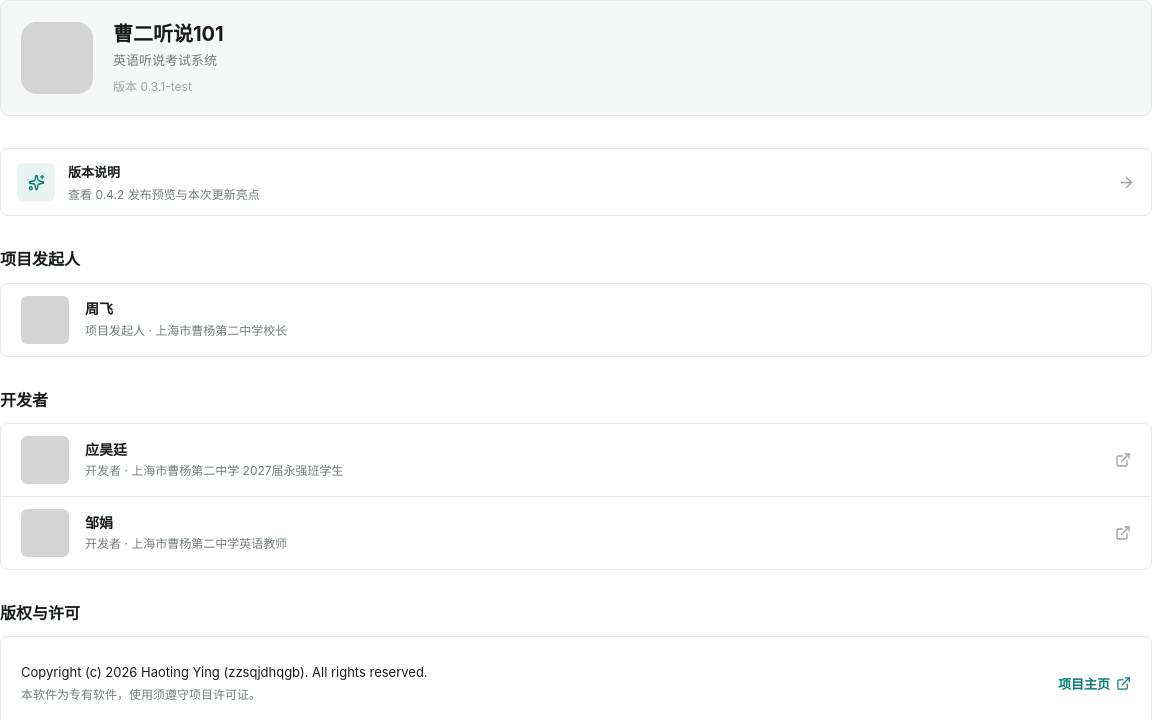
it: AboutSettingsPage › shows product, team and runtime version information
Check: the heading "曹二听说101" is shown, box x1=113 y1=21 x2=224 y2=48
Check: the text "版本 0.3.1-test" is shown, box x1=113 y1=78 x2=192 y2=95
What coordinates should you click on to do the following:
click the button "版本说明 查看 0.4.2 发布预览与本次更新亮点"
I would click on:
 (36, 182)
Its box is x1=0 y1=148 x2=1151 y2=216.
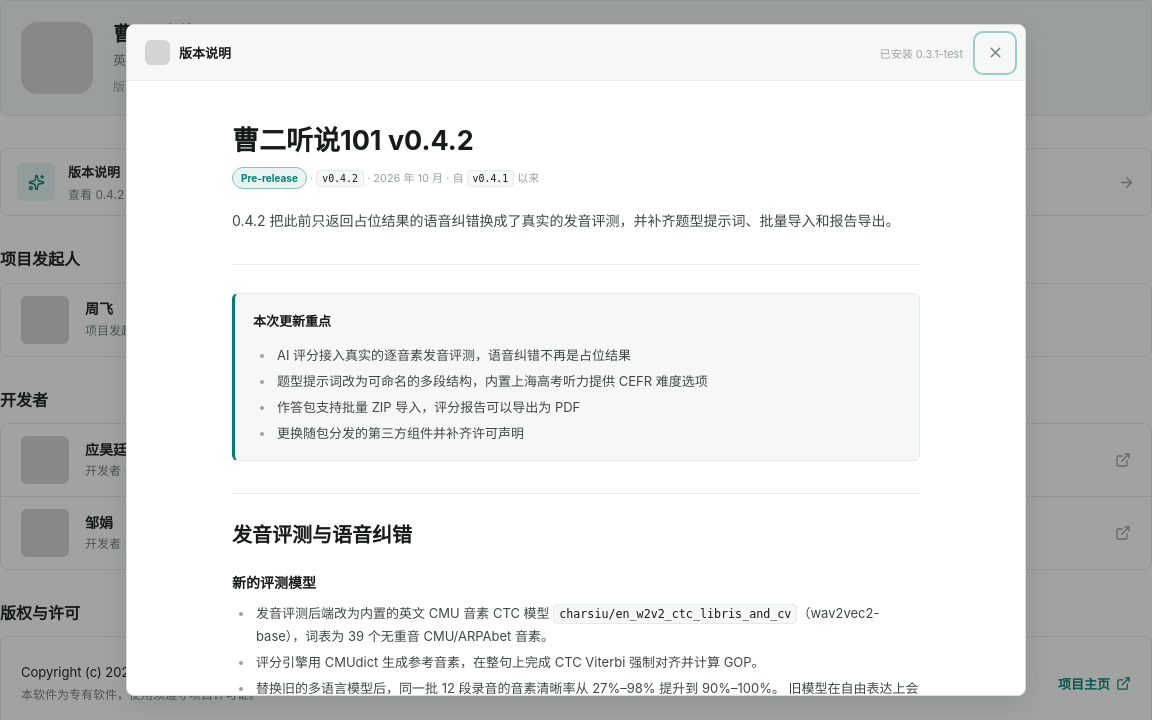
Check: the dialog "曹二听说101 v0.4.2" is shown
What coordinates should you click on to do the following:
click the button named "关闭版本说明"
I would click on:
 (995, 52)
Its box is x1=977 y1=34 x2=1013 y2=70.
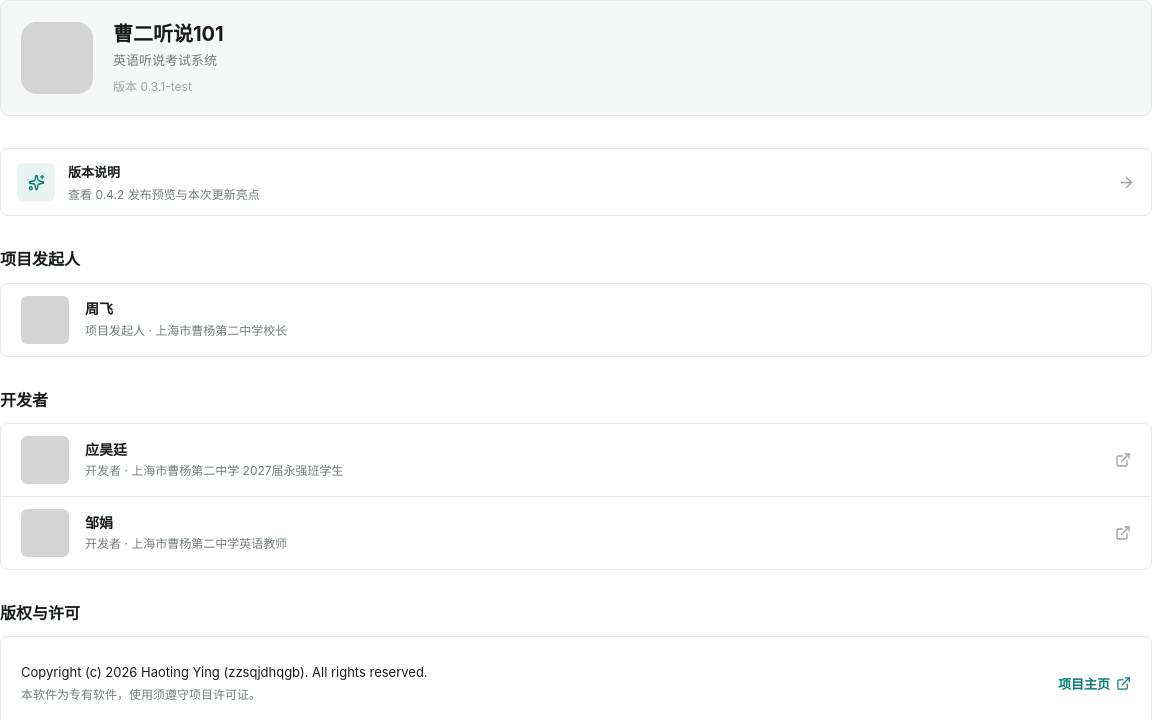
Check: the dialog is gone
